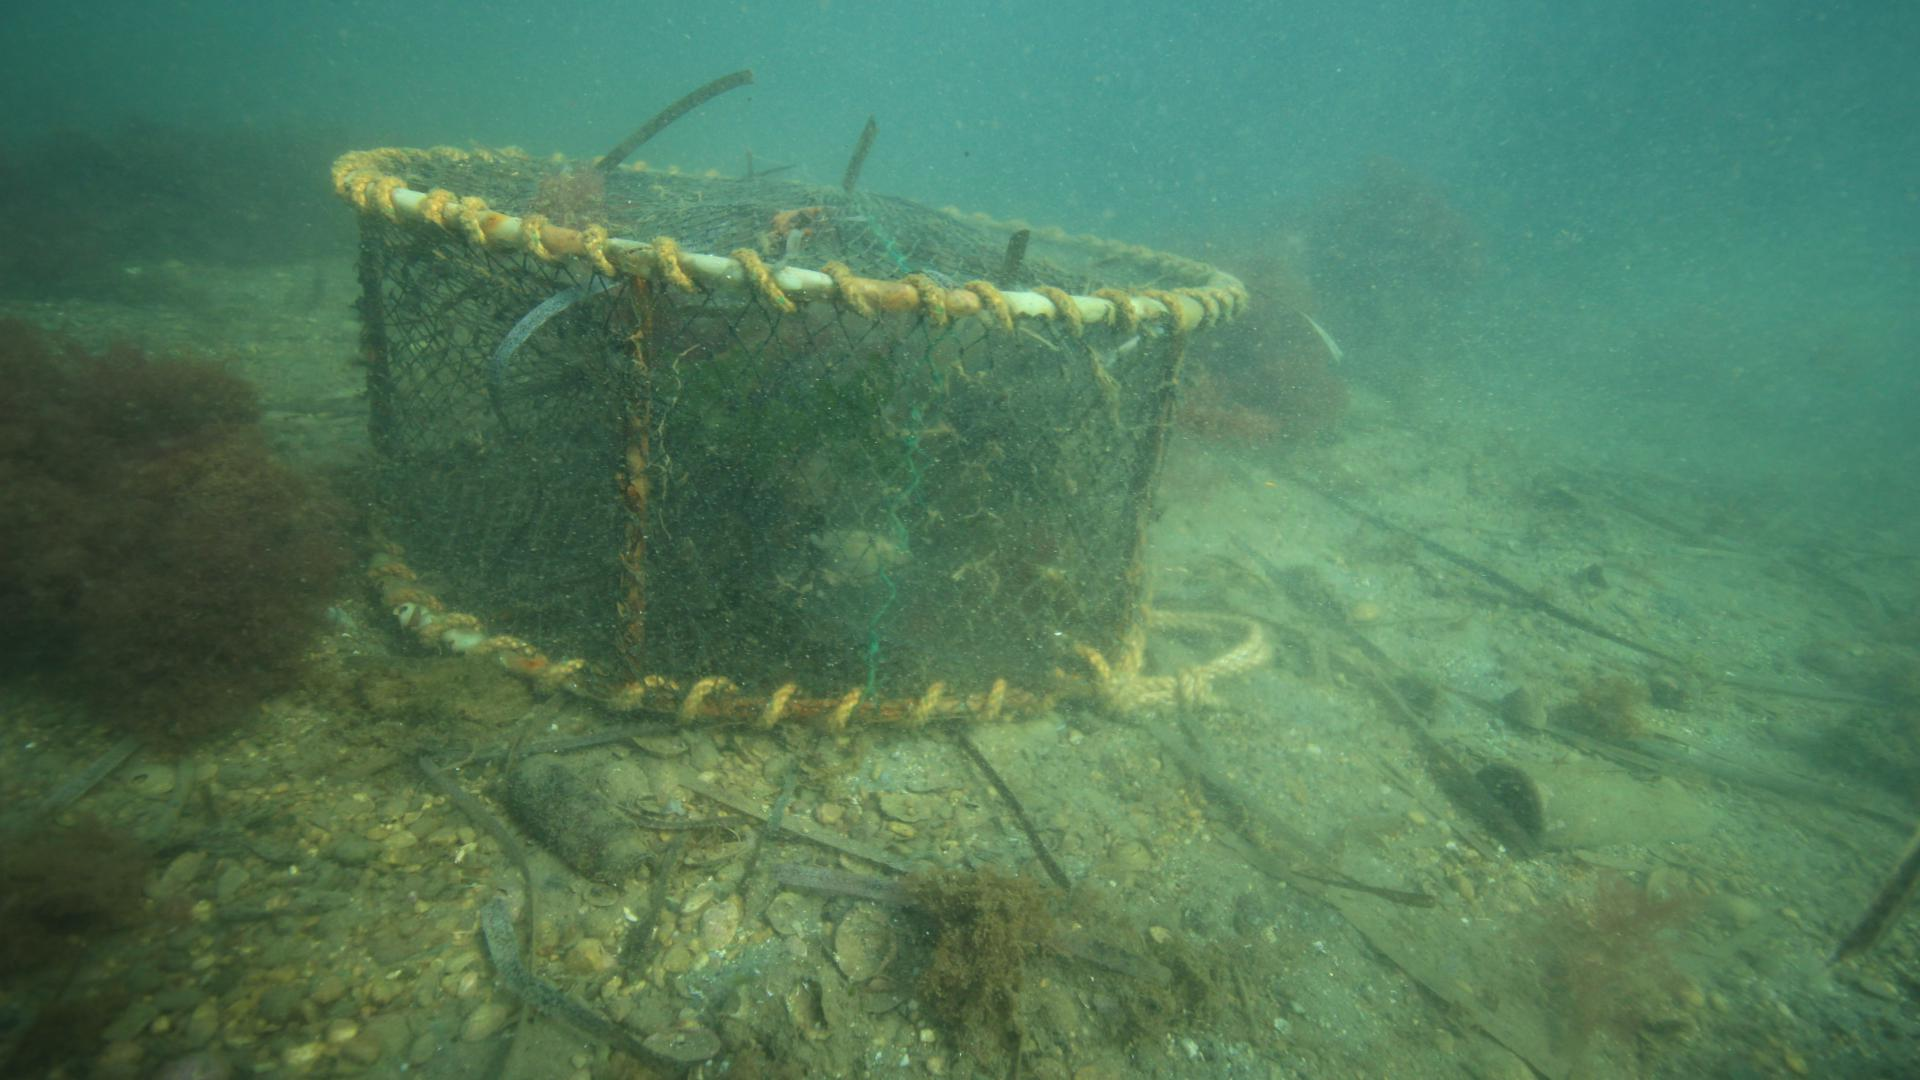bundle of ropes: (1110, 607, 1275, 709)
circular fish trap: (328, 140, 1249, 728)
